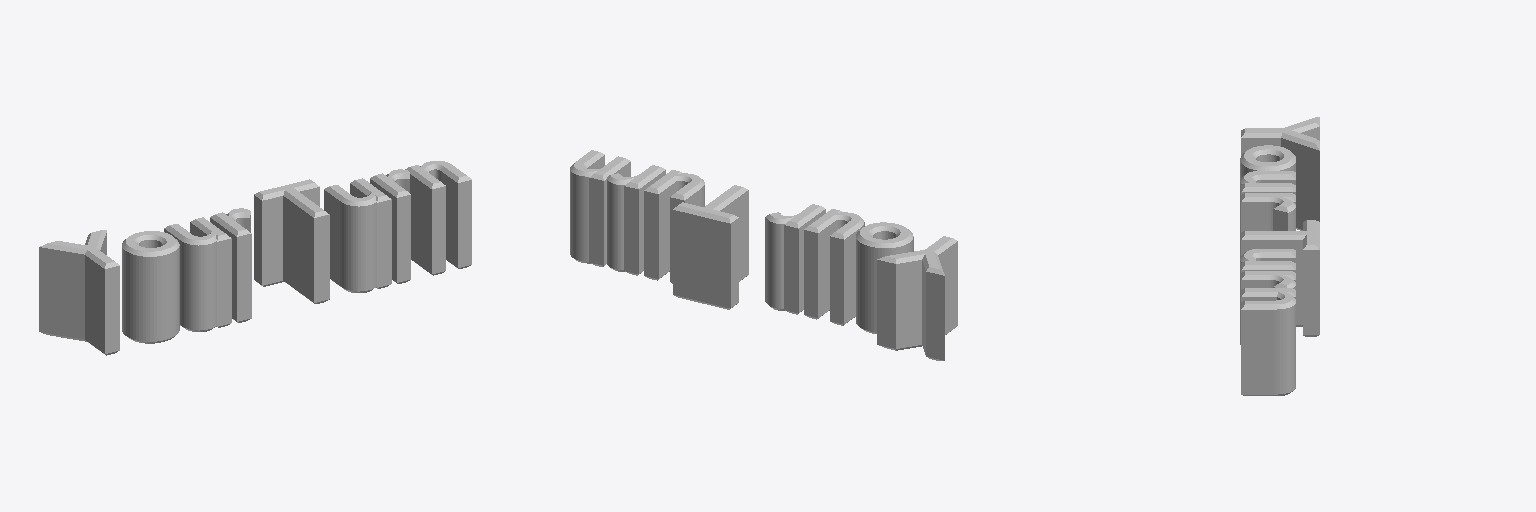
The model's file is prompt.obj.
3 renders of one model, left to right at view 1: azimuth 30°, elevation 25°; view 2: azimuth 150°, elevation 25°; view 3: azimuth 270°, elevation 25°, orthographic.
Visible parts, largest first — view 1: Text_Mesh; view 2: Text_Mesh; view 3: Text_Mesh.
Boxes of the visible parts, x1,y1,x2,y2 form: Text_Mesh: [39, 161, 471, 355]; Text_Mesh: [570, 150, 957, 360]; Text_Mesh: [1240, 117, 1319, 395].
Bounding box in the file's own units: 4.38 × 0.978 × 0.7651.